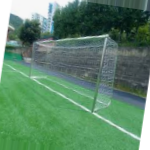goals: (29, 32, 118, 114)
